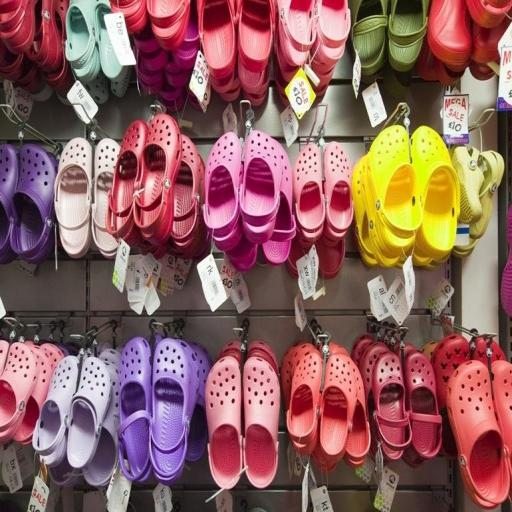flip-flop: (446, 361, 510, 508), (150, 338, 200, 483), (228, 356, 281, 488), (410, 126, 460, 259), (360, 155, 419, 267), (134, 113, 182, 246), (365, 125, 422, 237), (10, 144, 57, 263), (106, 120, 148, 246), (66, 356, 112, 470), (83, 351, 120, 488), (118, 337, 152, 482), (240, 130, 283, 243), (431, 334, 470, 457), (206, 355, 242, 488), (54, 137, 92, 258), (204, 132, 242, 251), (319, 343, 357, 461), (404, 348, 442, 465), (372, 351, 412, 460), (262, 144, 296, 265), (13, 345, 53, 444), (0, 342, 39, 443), (287, 350, 323, 453), (172, 135, 204, 245), (358, 343, 388, 458), (292, 143, 326, 243), (92, 138, 120, 259), (237, 0, 275, 85), (427, 0, 472, 71), (323, 142, 354, 245), (197, 0, 237, 79), (186, 342, 212, 462), (470, 150, 504, 239), (388, 0, 430, 72), (349, 0, 388, 77), (27, 0, 69, 71), (65, 0, 101, 82), (352, 157, 378, 267), (344, 359, 370, 467), (450, 146, 484, 224), (277, 0, 317, 65), (471, 0, 510, 65), (0, 342, 68, 379), (0, 144, 19, 264), (94, 0, 122, 80), (282, 342, 314, 411), (146, 0, 191, 49), (316, 0, 351, 59), (491, 360, 512, 453), (0, 0, 36, 53), (152, 1, 190, 51), (172, 3, 200, 69), (214, 233, 258, 273), (468, 25, 498, 81), (43, 58, 75, 104), (316, 234, 346, 279), (466, 0, 512, 29), (500, 206, 512, 316), (110, 0, 148, 34), (0, 40, 27, 82), (248, 340, 280, 375), (470, 336, 507, 365), (48, 457, 82, 488), (350, 333, 376, 367), (84, 71, 110, 105), (110, 66, 132, 98), (217, 340, 241, 364), (98, 344, 121, 367), (421, 340, 439, 361)
